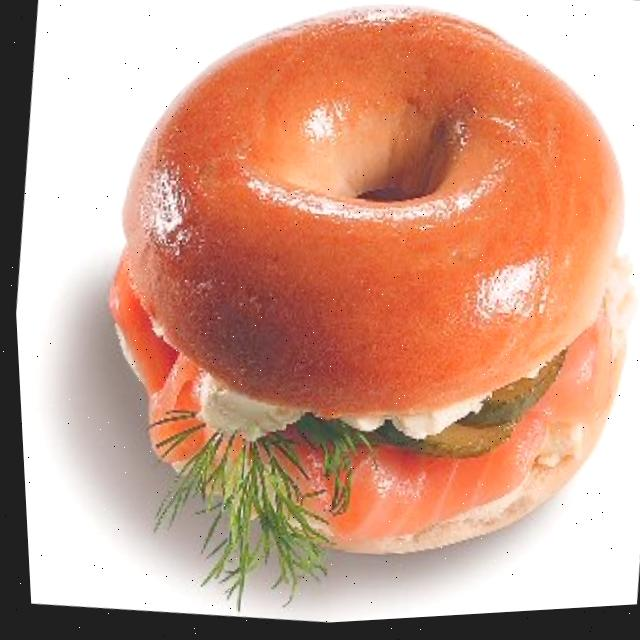面包点心: (25, 0, 640, 639)
